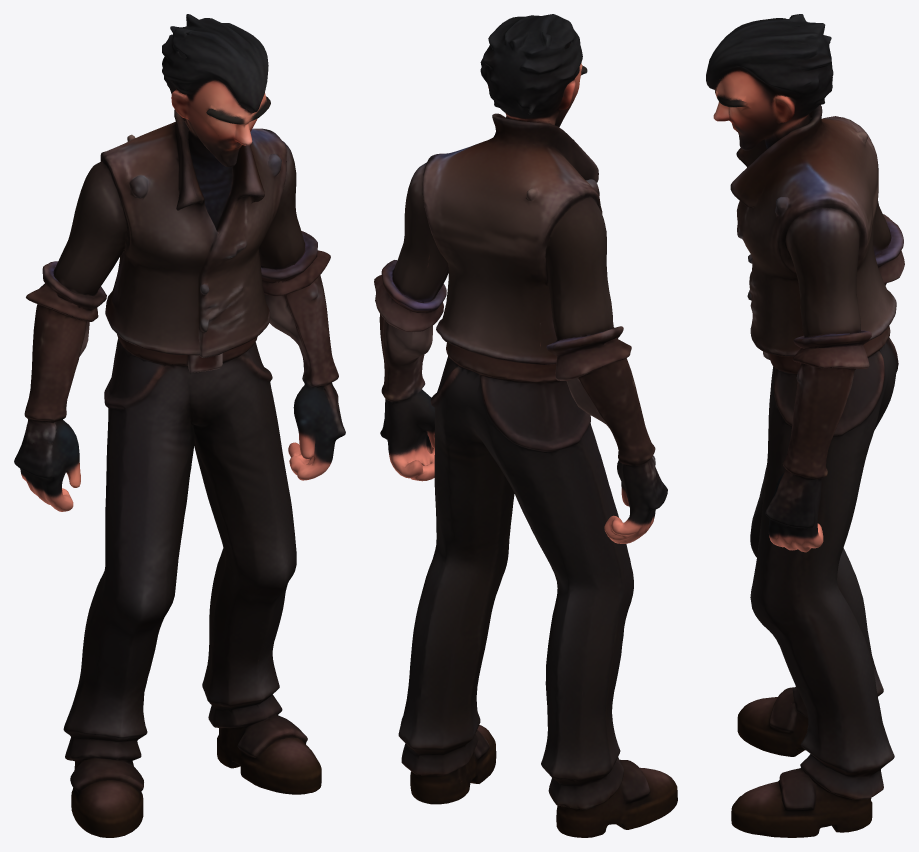
The model's file is bandit.glb.
3 renders of one model, left to right at view 1: azimuth 30°, elevation 25°; view 2: azimuth 150°, elevation 25°; view 3: azimuth 270°, elevation 25°, orthographic.
Parts seen in each view (by area): view 1: geometry_0; view 2: geometry_0; view 3: geometry_0.
Part boxes in pixels (bbox=[...]): geometry_0: bbox=[14, 14, 345, 837]; geometry_0: bbox=[374, 14, 677, 837]; geometry_0: bbox=[706, 14, 904, 837].
Bounding box in the file's own units: 0.4095 × 1 × 0.2355.
Materials: 1 (1 with a texture image).
